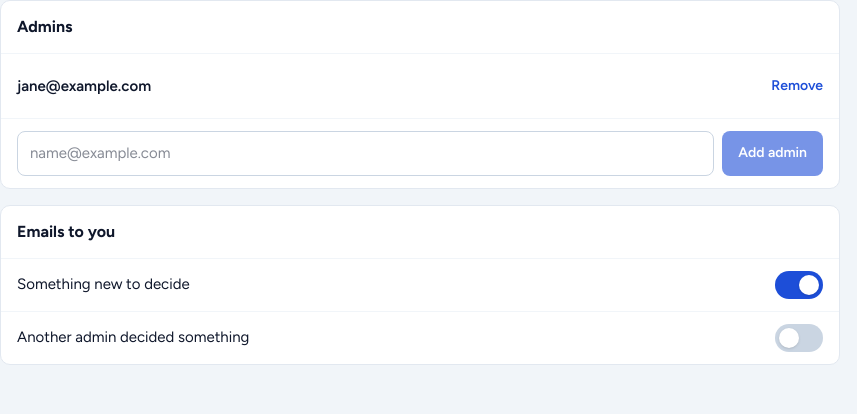
Scenario: TeamManager › the Something new to decide switch › goes back and says so when the save fails
The image size is (857, 414).
Click the switch named "Something new to decide". click: coordinates (799, 284)
box: [775,270,823,298]
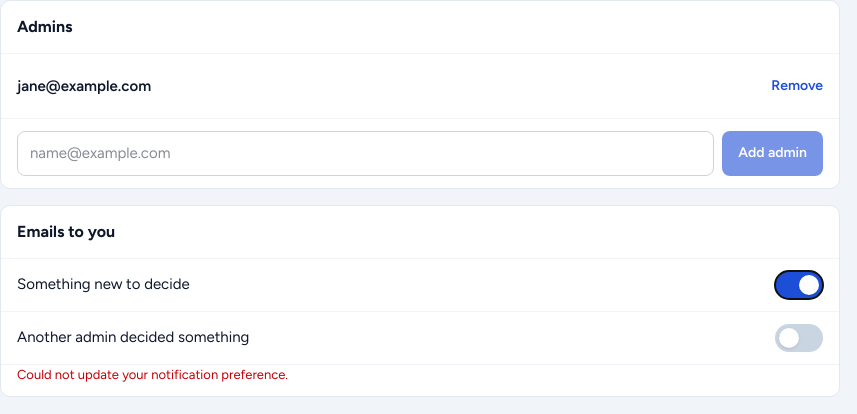
Now the text "Could not update your notification preference." is shown, box [17,366,288,382]
